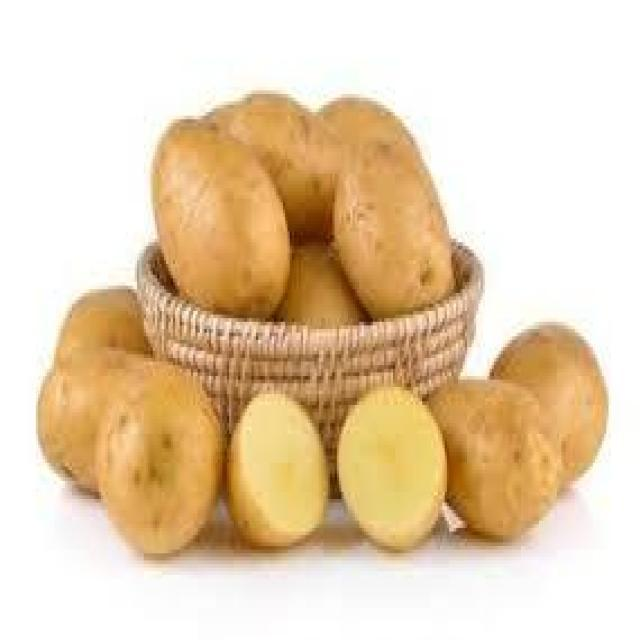Potato: (162, 94, 473, 326), (38, 290, 224, 560), (424, 328, 608, 543), (336, 387, 448, 555), (224, 392, 332, 552)
